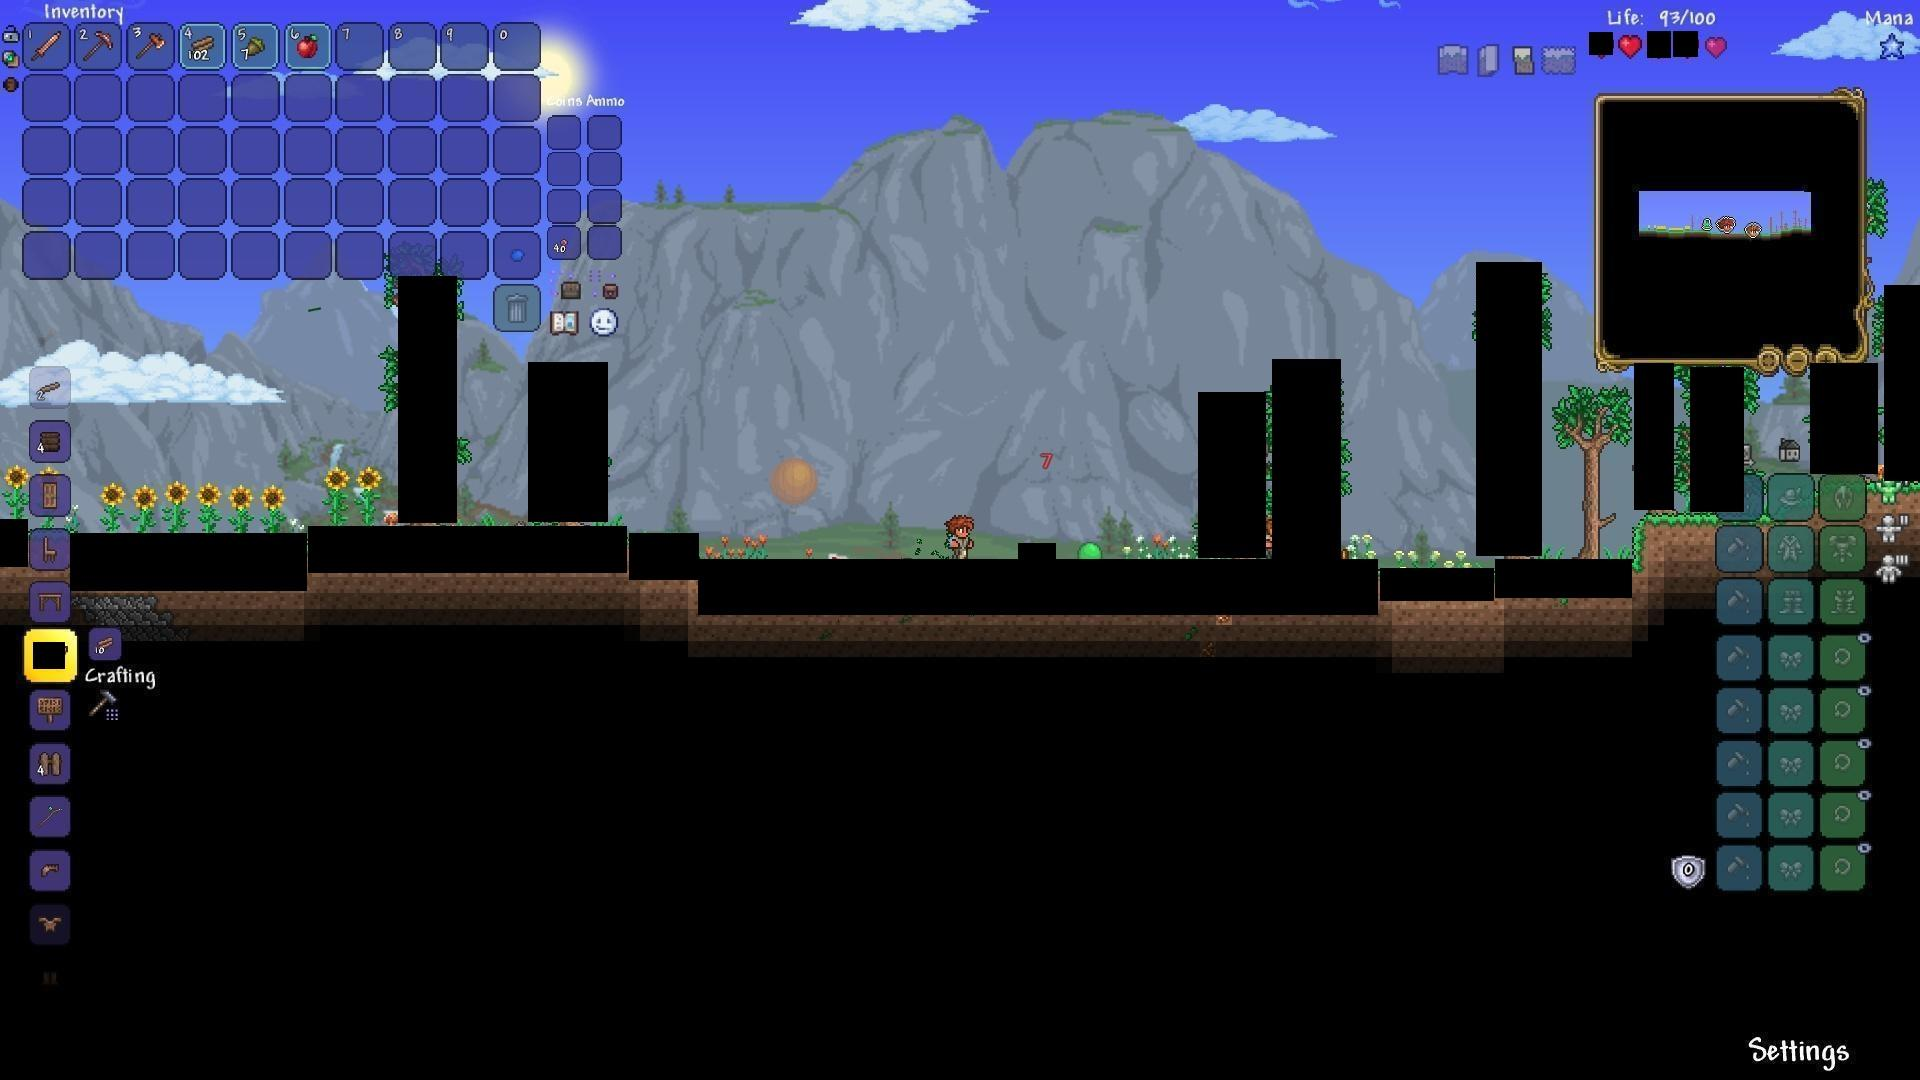breastplate: (36, 914, 66, 935)
dirt: (1633, 512, 1714, 572)
heart: (1615, 30, 1639, 54)
helmet: (36, 858, 63, 884)
slime: (1072, 539, 1106, 564)
tree: (1549, 377, 1629, 554)
wood: (92, 632, 120, 657), (189, 34, 215, 59)
